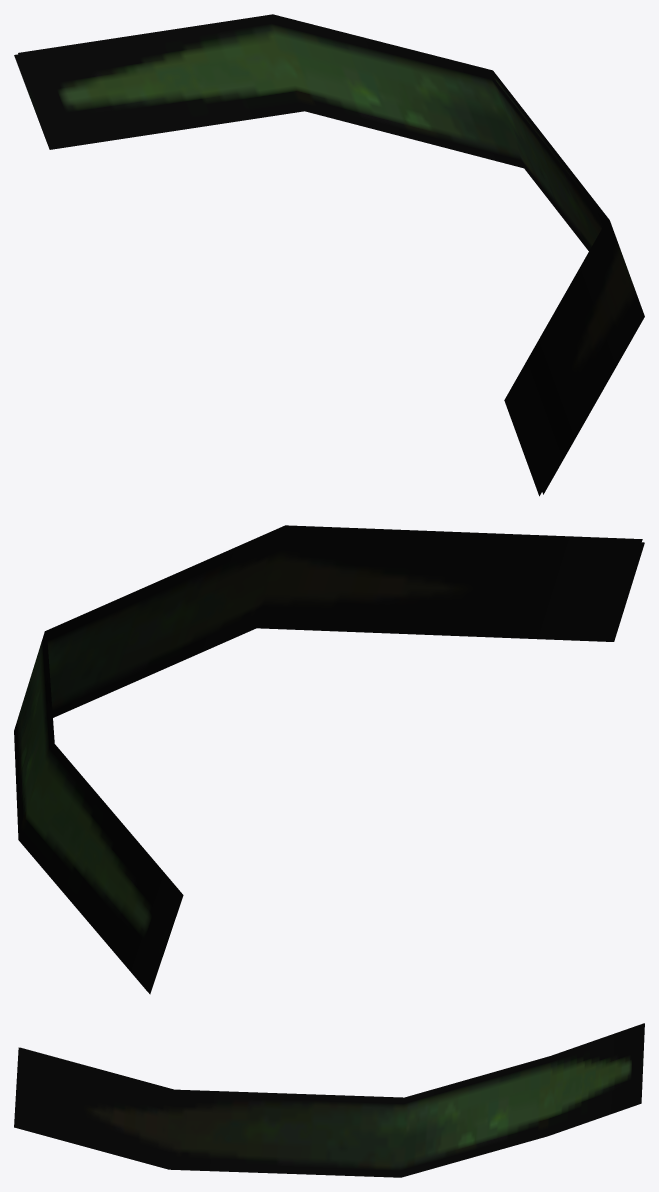
Rendered from plant_dracaena02_leaf02.dae.
3 views of the same model, one above another, from view 1: azimuth 30°, elevation 25°; view 2: azimuth 150°, elevation 25°; view 3: azimuth 270°, elevation 25° (orthographic). The views are drawn at different scales.
Parts seen in each view (by area): view 1: plant_dracaena07; view 2: plant_dracaena07; view 3: plant_dracaena07.
Boxes of the visible parts, x1,y1,x2,y2 form: plant_dracaena07: [14, 14, 644, 496]; plant_dracaena07: [14, 525, 644, 994]; plant_dracaena07: [14, 1023, 644, 1177].
Size of the model in its own units: 0.0559 by 0.0264 by 0.1335.
